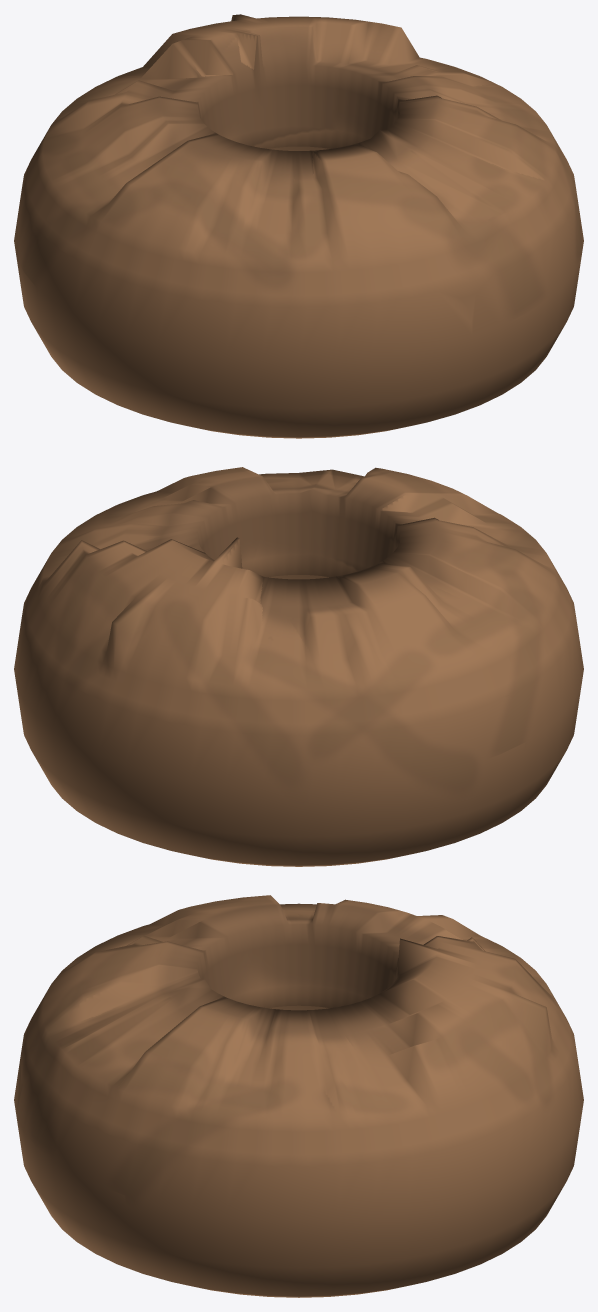
The model's file is CaveHole.fbx.
3 renders of one model, top to bottom at view 1: azimuth 30°, elevation 25°; view 2: azimuth 150°, elevation 25°; view 3: azimuth 270°, elevation 25°, orthographic.
Visible parts, largest first — view 1: Torus; view 2: Torus; view 3: Torus.
Boxes of the visible parts, x1,y1,x2,y2 form: Torus: [14, 14, 583, 438]; Torus: [14, 467, 583, 866]; Torus: [14, 895, 583, 1297].
Size of the model in its own units: 2.44 by 1.26 by 2.44.
